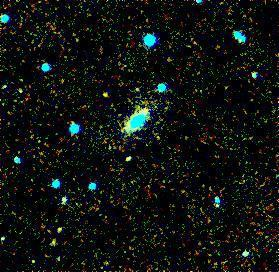star: (92, 81, 122, 111)
